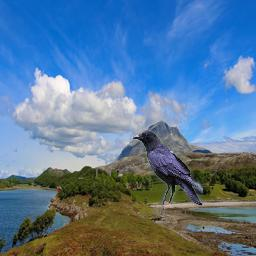Crow: (133, 130, 203, 212)
